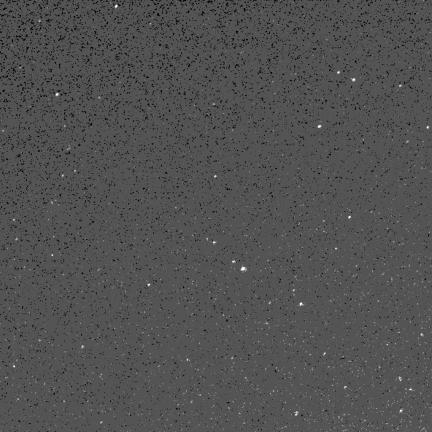blob: (318, 125, 322, 129), (115, 5, 119, 9), (352, 79, 356, 82), (427, 126, 430, 130), (338, 71, 341, 75), (56, 93, 59, 96)
